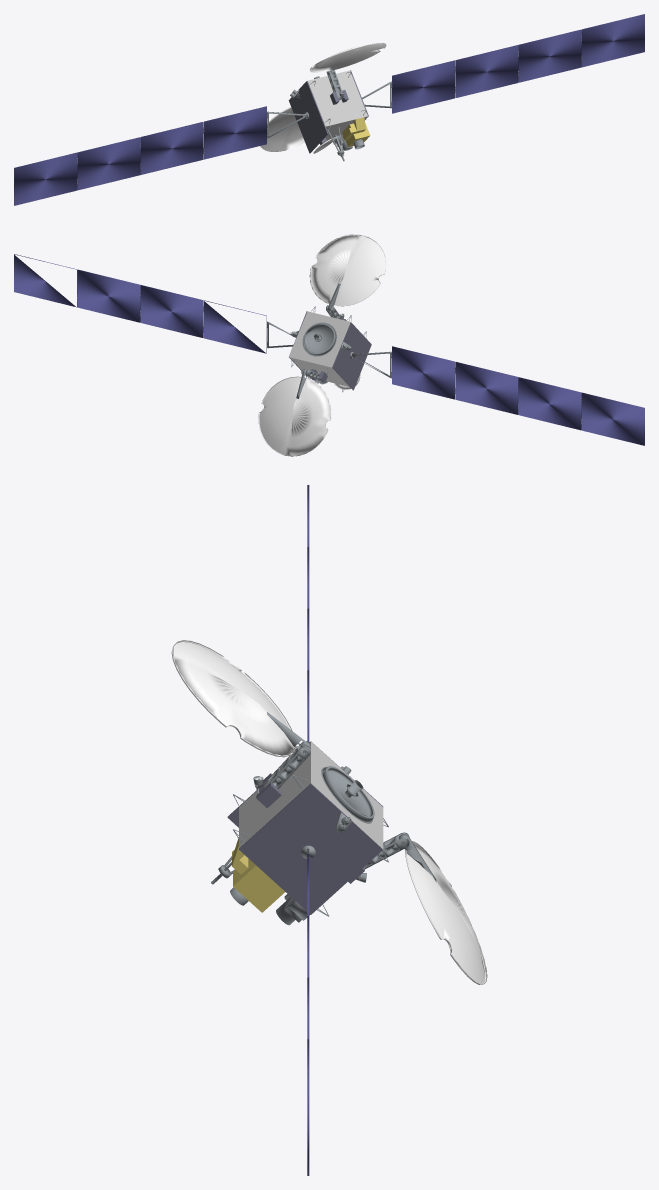
File: weixin.gltf
3 views of the same model, one above another, from view 1: azimuth 30°, elevation 25°; view 2: azimuth 150°, elevation 25°; view 3: azimuth 270°, elevation 25° (orthographic). The views are drawn at different scales.
Parts seen in each view (by area): view 1: AM84_026_2, AM84_026_4, AM84_026_1, AM84_026_3, AM84_026_0; view 2: AM84_026_2, AM84_026_1, AM84_026_4, AM84_026_3; view 3: AM84_026_4, AM84_026_1, AM84_026_3, AM84_026_0, AM84_026_2.
Boxes of the visible parts, <box> form: AM84_026_2: <box>14,14,644,205</box>; AM84_026_4: <box>288,70,368,153</box>; AM84_026_1: <box>260,42,386,153</box>; AM84_026_3: <box>77,35,581,184</box>; AM84_026_0: <box>342,117,370,146</box>; AM84_026_2: <box>14,254,644,445</box>; AM84_026_1: <box>258,234,385,456</box>; AM84_026_4: <box>289,311,371,390</box>; AM84_026_3: <box>77,275,581,424</box>; AM84_026_4: <box>227,741,383,914</box>; AM84_026_1: <box>171,640,487,984</box>; AM84_026_3: <box>211,712,436,925</box>; AM84_026_0: <box>232,837,284,912</box>; AM84_026_2: <box>307,485,309,1175</box>.
Size of the model in its own units: 200 by 49.26 by 43.29.
